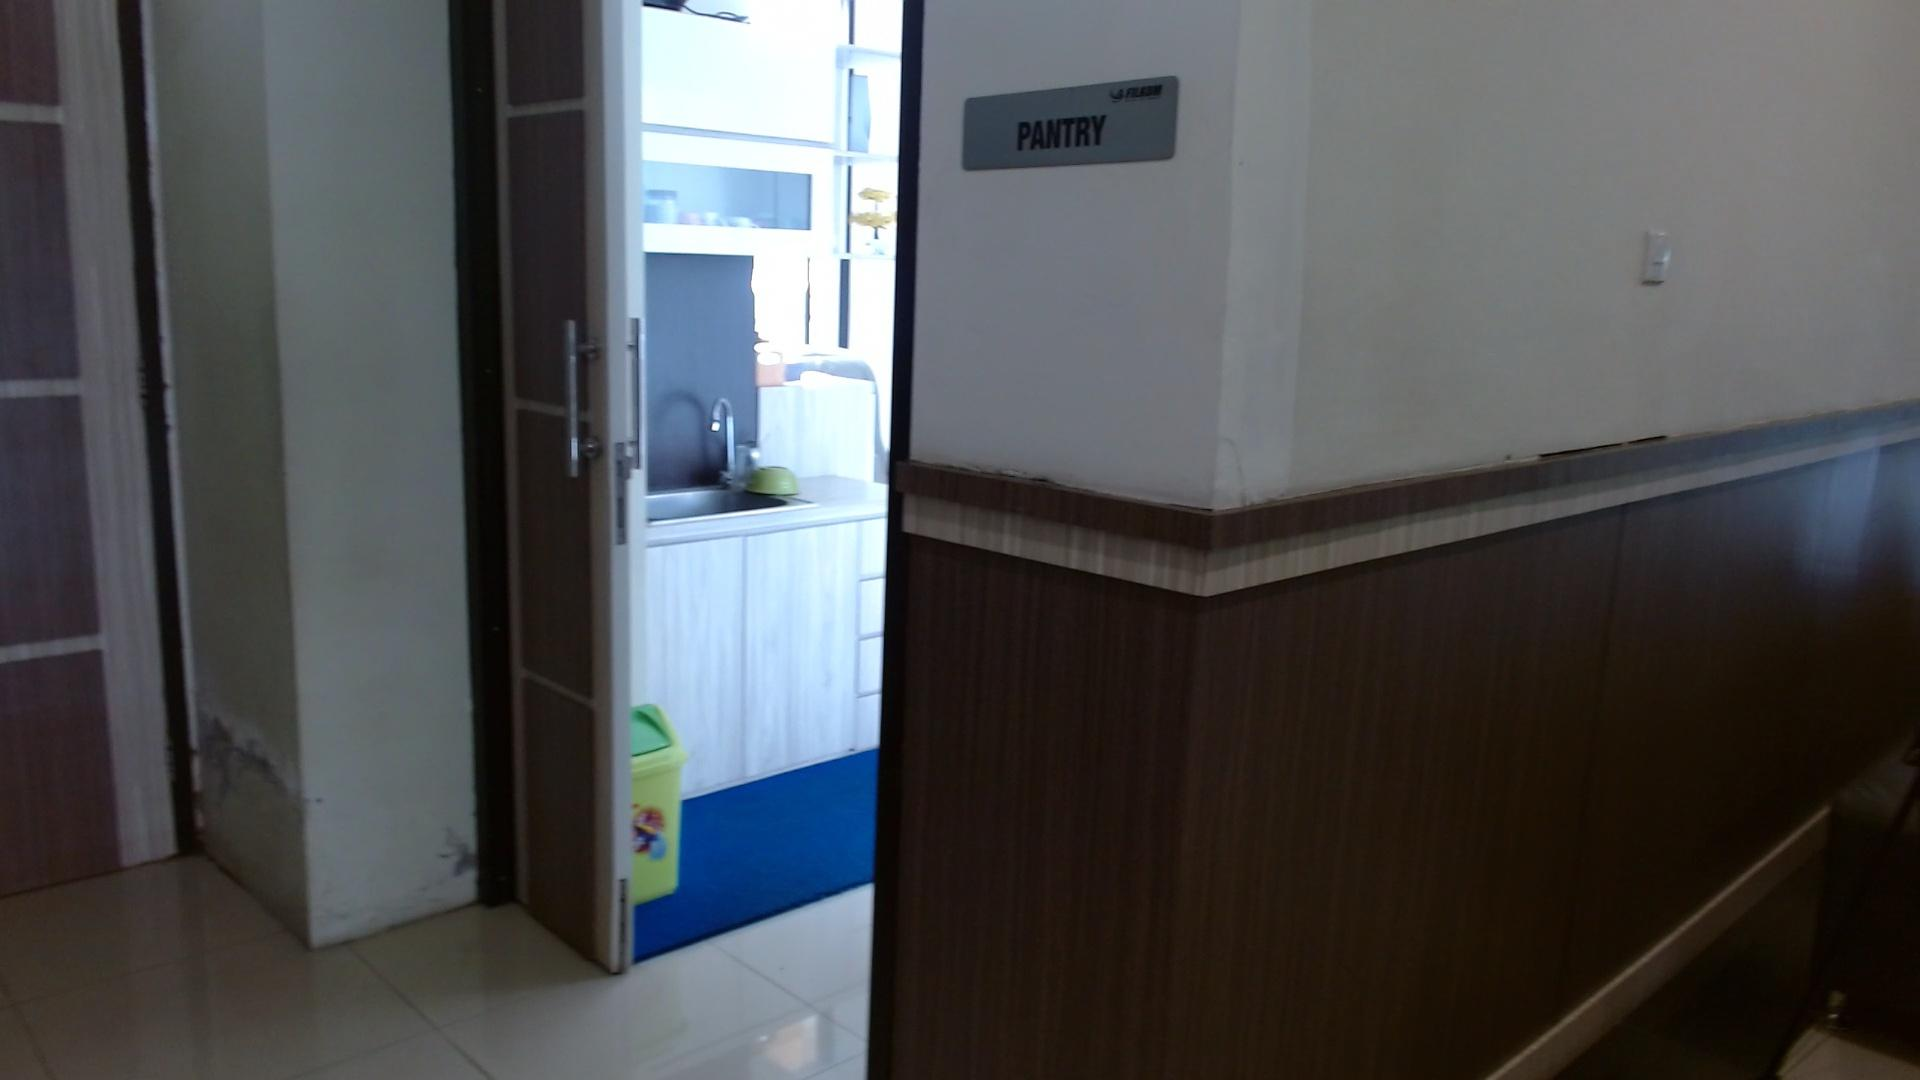plate: (961, 76, 1180, 171)
